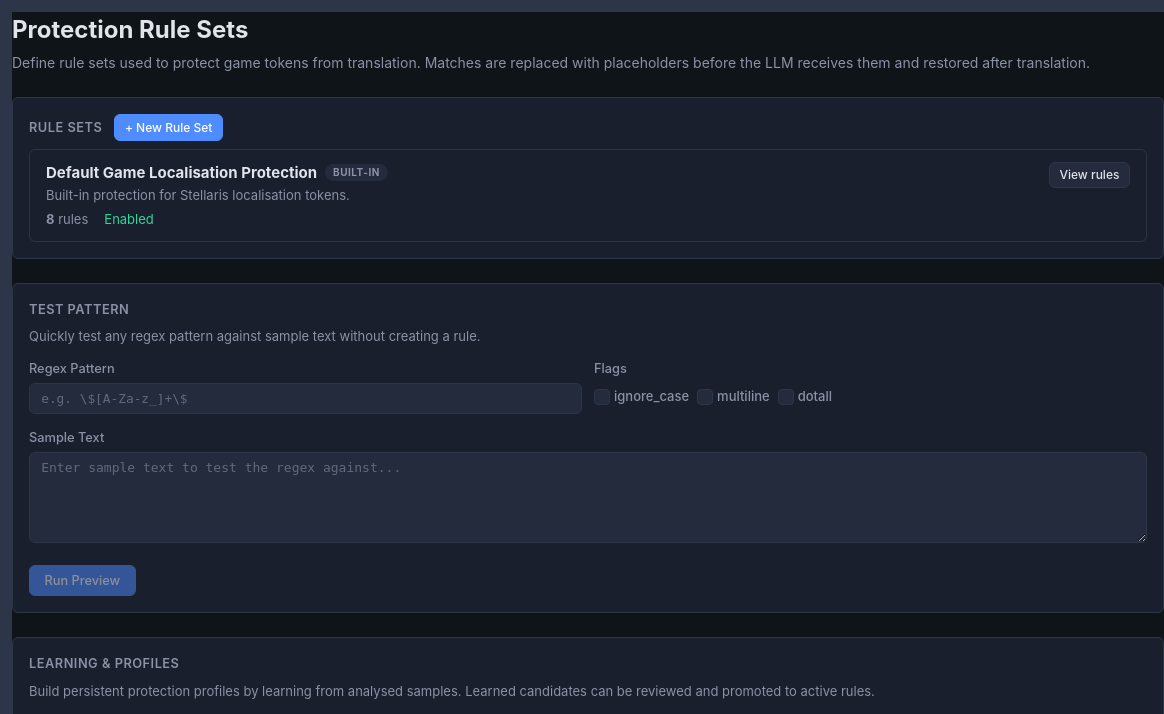
Test case: ProtectionRules — rule-set-centric UI › clicking View rules on builtin shows rules inline
Expected: the text "Default Game Localisation Protection" is shown, [46,162,317,184]
Expected: the text "dollar_var" is not shown
# Click "View rules"
Click the button "View rules": (1089, 175) [1049,162,1130,188]
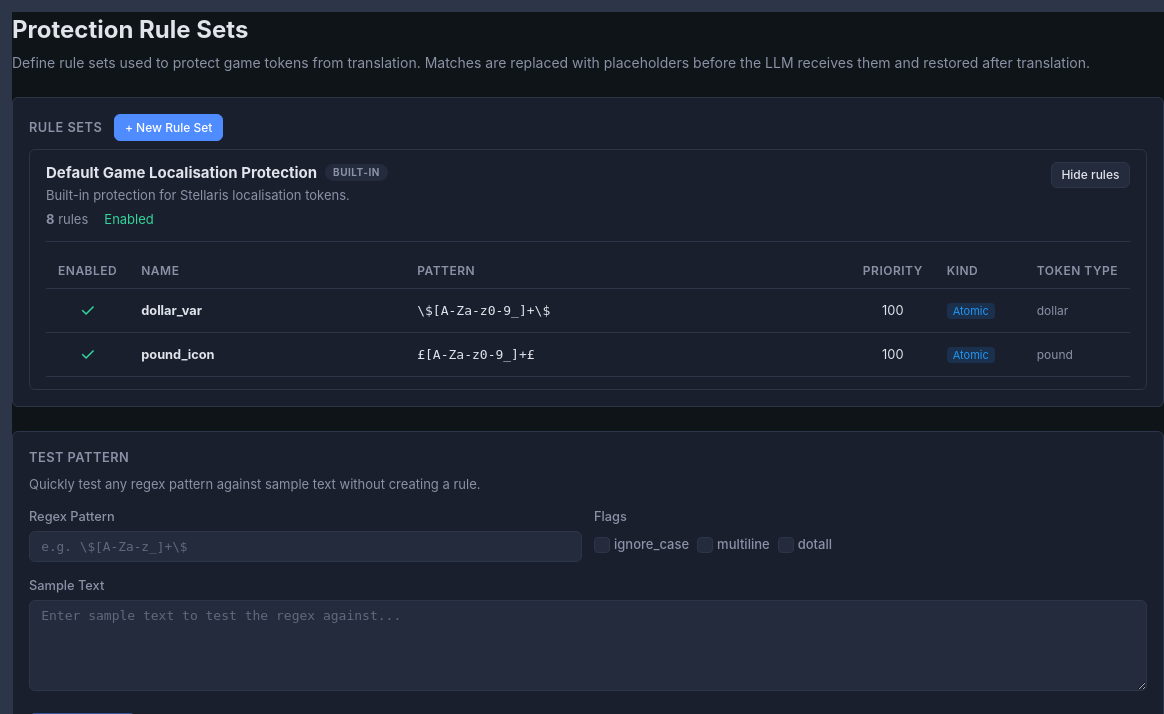
Expected: the text "dollar_var" is shown, [141,303,202,318]
Expected: the text "pound_icon" is shown, [141,347,214,362]
